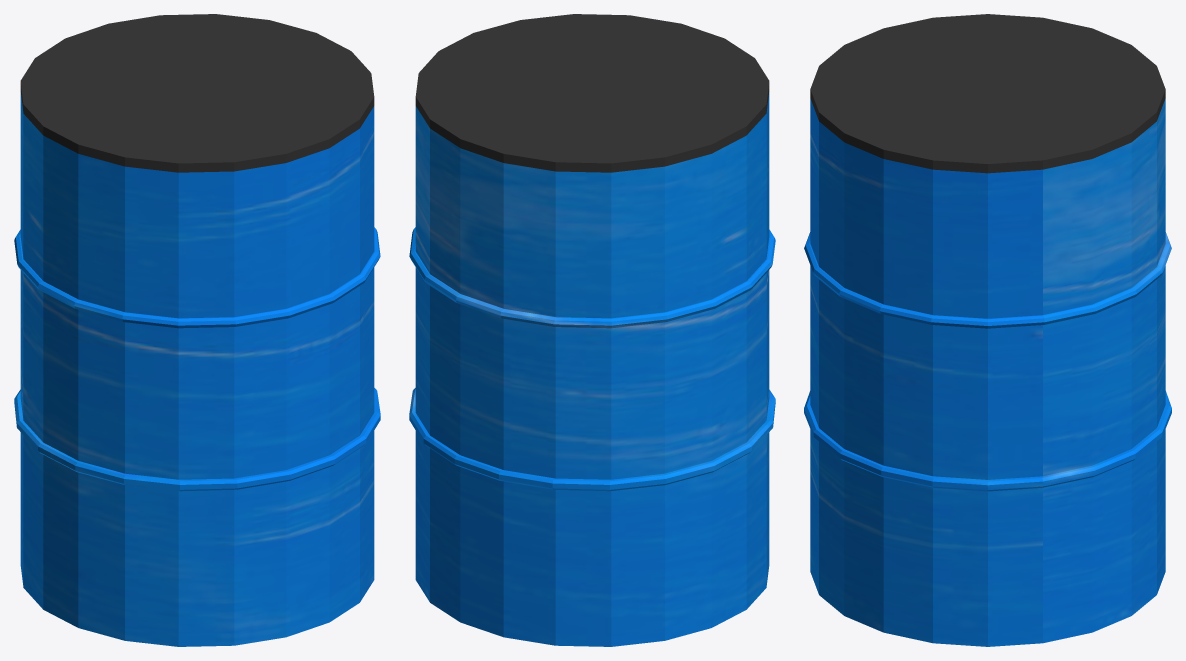
The model's file is Blue Barrel.fbx.
The picture shows the model from 3 angles, left to right: view 1: azimuth 30°, elevation 25°; view 2: azimuth 150°, elevation 25°; view 3: azimuth 270°, elevation 25°; orthographic projection.
Visible parts, largest first — view 1: pCylinder1; view 2: pCylinder1; view 3: pCylinder1.
Part boxes in pixels (x1,y1,x2,y2): pCylinder1: [14, 14, 380, 646]; pCylinder1: [409, 14, 775, 646]; pCylinder1: [804, 14, 1171, 646].
Size of the model in its own units: 2.07 by 3 by 2.07.
Materials: 3 (1 with a texture image).
